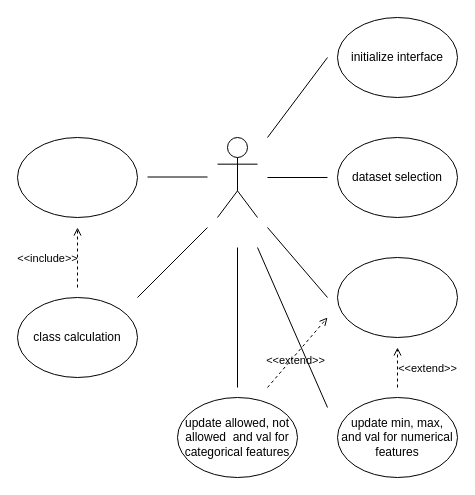
The diagram is 475 pixels wide and 495 high, and some of its shapes have lost their labels. The shapes that lost their labels are listed below. From the top down, each one's box as (x1, y1, x2, y2) in pixels, then its label:
(16, 136, 138, 218): counterfactual generation
(216, 136, 258, 218): user
(336, 256, 458, 338): random point selection
